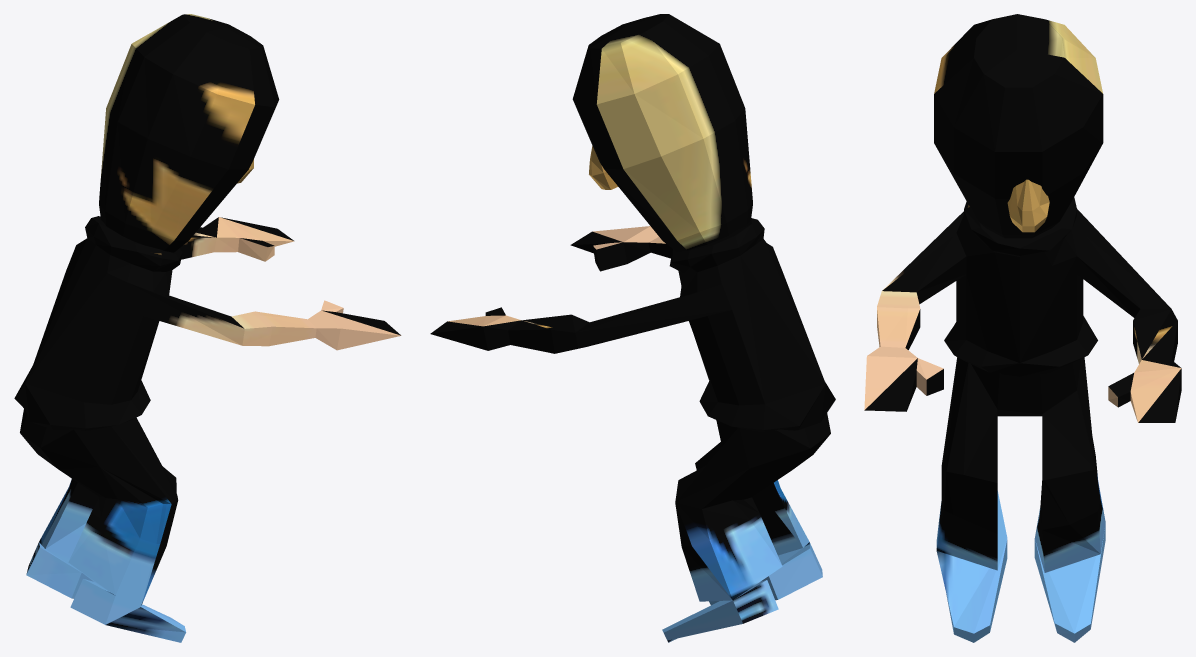
File: PipVespa.glb
3 views of the same model, side by side, from view 1: azimuth 30°, elevation 25°; view 2: azimuth 150°, elevation 25°; view 3: azimuth 270°, elevation 25° (orthographic). The views are drawn at different scales.
Visible parts, largest first — view 1: PipVespa; view 2: PipVespa; view 3: PipVespa.
Part boxes in pixels (x1=…): PipVespa: x1=14, y1=14, x2=401, y2=642; PipVespa: x1=430, y1=14, x2=835, y2=642; PipVespa: x1=864, y1=14, x2=1181, y2=642.
Bounding box in the file's own units: 69.29 × 121 × 54.02.
1 material, 1 textured.
